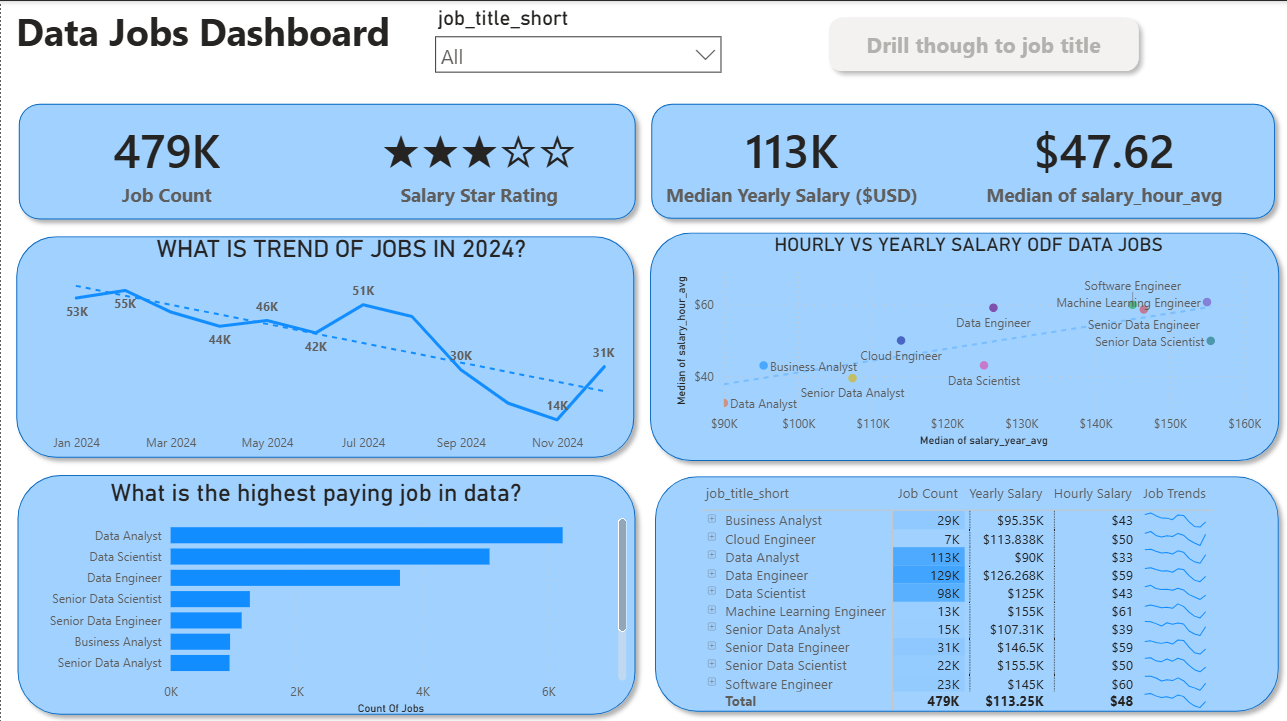

The page's visual inventory and layout, read from the dashboard file:
{"tool":"powerbi","page":{"name":"Data Jobs Dashboard","canvas":[1280,720],"ordinal":0},"visuals":[{"type":"group","id":"g1","title":"Background","box":[6.5,92.8,1275.2,626.1],"z":500},{"type":"textbox","box":[10,0,410.5,59.7],"z":1000},{"type":"slicer","fields":{"Values":["job_postings_flat.job_title_short"]},"box":[421.1,0,305.4,87.8],"z":2000},{"type":"cardVisual","fields":{"Data":["CountNonNull(job_postings_flat.job_title_short)"]},"box":[10,88.3,311,144.3],"z":3000},{"type":"cardVisual","fields":{"Data":["Median(job_postings_flat.salary_year_avg)"]},"box":[631.6,87.8,311,144.3],"z":4000},{"type":"cardVisual","fields":{"Data":["job_postings_flat.Salary Star Rating"]},"box":[320.9,88.3,311,144.3],"z":5000},{"type":"cardVisual","fields":{"Data":["Median(job_postings_flat.salary_hour_avg)"]},"box":[942.9,88.3,311,144.3],"z":6000},{"type":"lineChart","title":"WHAT IS TREND OF JOBS IN 2024?","fields":{"Category":["job_postings_flat.job_posted_date.Variation.Date Hierarchy.Year","job_postings_flat.job_posted_date.Variation.Date Hierarchy.Quarter","job_postings_flat.job_posted_date.Variation.Date Hierarchy.Month","job_postings_flat.job_posted_date.Variation.Date Hierarchy.Day"],"Y":["CountNonNull(job_postings_flat.job_title_short)"]},"box":[46,232.9,585.6,225.9],"z":7000},{"type":"barChart","title":"What is the highest paying job in data?","fields":{"Category":["job_postings_flat.job_title_short"],"Y":["CountNonNull(job_postings_flat.salary_year_avg)"]},"box":[0,475.7,627.6,240],"z":8000},{"type":"shape","box":[8.4,93.4,631.9,133.1],"z":9000,"group":"g1"},{"type":"scatterChart","title":"HOURLY VS YEARLY SALARY ODF DATA JOBS","fields":{"X":["Median(job_postings_flat.salary_year_avg)"],"Y":["Median(job_postings_flat.salary_hour_avg)"],"Series":["job_postings_flat.job_title_short"]},"box":[666.5,231.5,592.6,217.5],"z":9000},{"type":"shape","box":[638.9,92.8,638.6,132.5],"z":10000,"group":"g1"},{"type":"pivotTable","fields":{"Rows":["job_postings_flat.job_title_short","job_postings_flat.job_posted_date.Variation.Date Hierarchy.Quarter"],"Values":["CountNonNull(job_postings_flat.job_title_short)","Median(job_postings_flat.salary_year_avg)","Median(job_postings_flat.salary_hour_avg)","SparklineData(CountNonNull(job_postings_flat.job_title_short)_[job_postings_flat.job_posted_date.Variation.Date Hierarch"]},"box":[691.6,475.5,571.7,245.4],"z":10000},{"type":"shape","box":[6.5,225.3,633,238.4],"z":11000,"group":"g1"},{"type":"actionButton","box":[814.3,7,326.3,71.1],"z":12000},{"type":"shape","box":[637.5,221.1,644.2,245.4],"z":12000,"group":"g1"},{"type":"shape","box":[7.3,462.3,633,256.6],"z":13000,"group":"g1"},{"type":"shape","box":[641.7,463.7,638.6,252.4],"z":14000,"group":"g1"}]}

Visuals, with their boxes in screenshot pixels (x1, y1, x2, y2), scaled from the page's 1280x720 canvas onto the 1287x721 screenshot:
"Background" group: [x1=7, y1=93, x2=1286, y2=720]
textbox: [x1=10, y1=0, x2=423, y2=60]
slicer - job_postings_flat.job_title_short: [x1=423, y1=0, x2=730, y2=88]
cardVisual - CountNonNull(job_postings_flat.job_title_short): [x1=10, y1=88, x2=323, y2=233]
cardVisual - Median(job_postings_flat.salary_year_avg): [x1=635, y1=88, x2=948, y2=232]
cardVisual - job_postings_flat.Salary Star Rating: [x1=323, y1=88, x2=635, y2=233]
cardVisual - Median(job_postings_flat.salary_hour_avg): [x1=948, y1=88, x2=1261, y2=233]
"WHAT IS TREND OF JOBS IN 2024?" lineChart: [x1=46, y1=233, x2=635, y2=459]
"What is the highest paying job in data?" barChart: [x1=0, y1=476, x2=631, y2=717]
shape: [x1=8, y1=94, x2=644, y2=227]
"HOURLY VS YEARLY SALARY ODF DATA JOBS" scatterChart: [x1=670, y1=232, x2=1266, y2=450]
shape: [x1=642, y1=93, x2=1284, y2=226]
pivotTable - job_postings_flat.job_title_short x job_postings_flat.job_posted_date.Variation.Date Hierarchy.Quarter: [x1=695, y1=476, x2=1270, y2=720]
shape: [x1=7, y1=226, x2=643, y2=464]
actionButton: [x1=819, y1=7, x2=1147, y2=78]
shape: [x1=641, y1=221, x2=1286, y2=467]
shape: [x1=7, y1=463, x2=644, y2=720]
shape: [x1=645, y1=464, x2=1286, y2=717]
